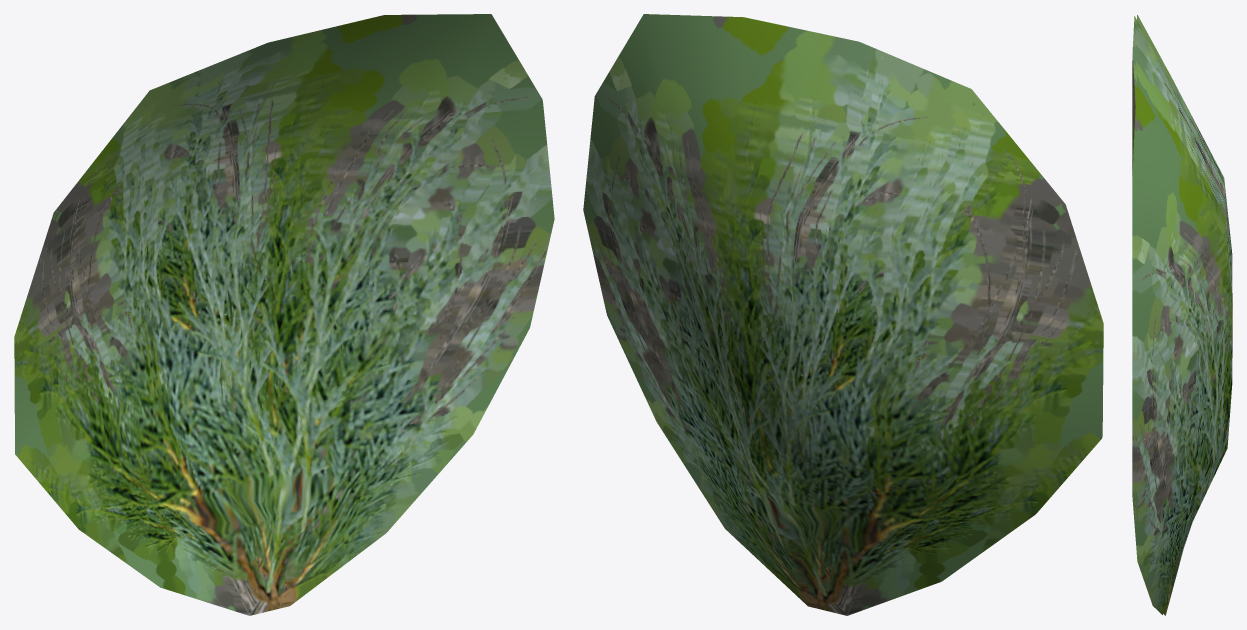
The model's file is bush_1.fbx.
3 views of the same model, side by side, from view 1: azimuth 30°, elevation 25°; view 2: azimuth 150°, elevation 25°; view 3: azimuth 270°, elevation 25° (orthographic). The views are drawn at different scales.
Parts seen in each view (by area): view 1: bush_1; view 2: bush_1; view 3: bush_1.
Part boxes in pixels (<box>): bush_1: <box>14,14,554,615</box>; bush_1: <box>583,14,1103,615</box>; bush_1: <box>1132,15,1232,615</box>.
Size of the model in its own units: 0.9437 by 0.9745 by 0.1615.
